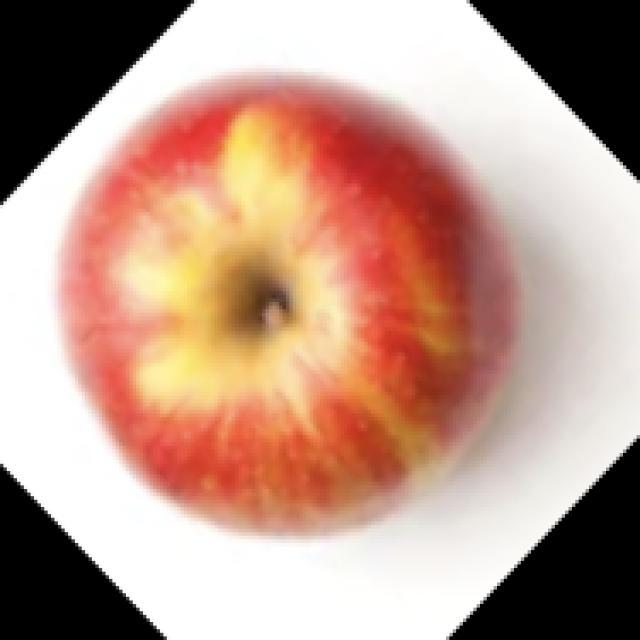Fresh Apple: (57, 67, 528, 543)
